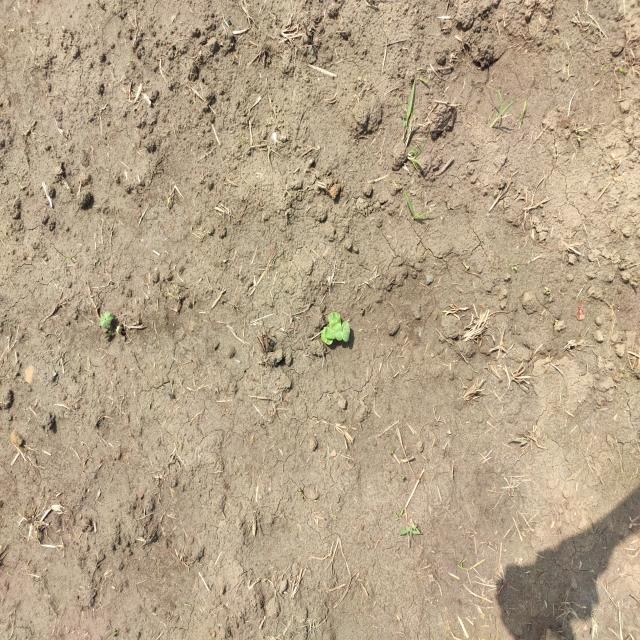seedling: (100, 312, 113, 329), (323, 326, 336, 340), (342, 322, 350, 342), (321, 332, 333, 345), (329, 318, 341, 330), (335, 323, 342, 341), (328, 312, 340, 322)
